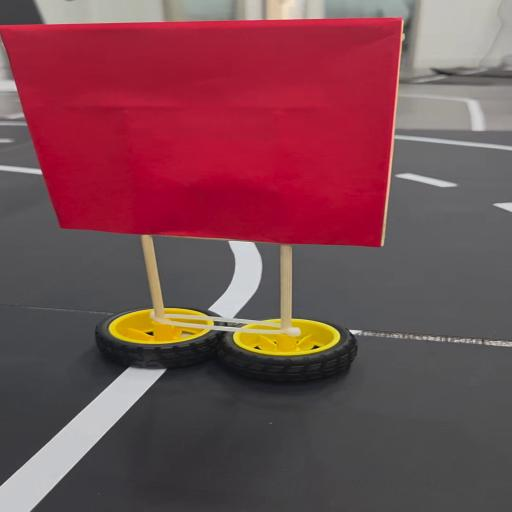Sign_A: (3, 16, 381, 396)
